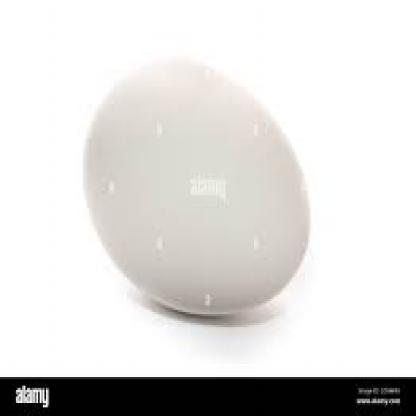egg: (78, 52, 317, 326)
